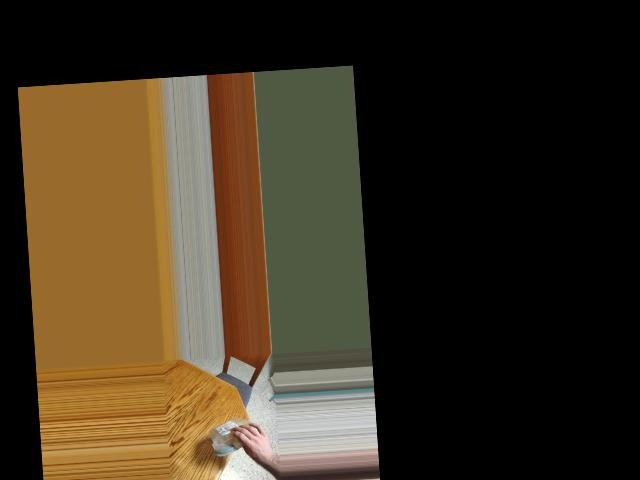cheese: (213, 420, 252, 451)
